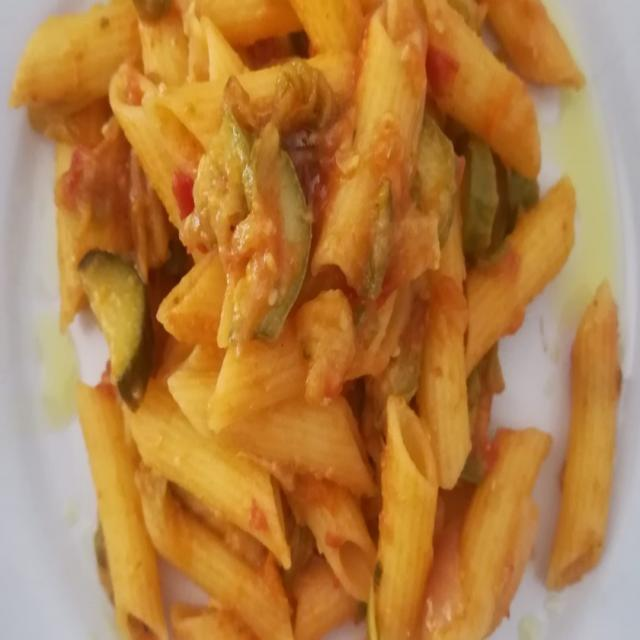Pasta al ragu: (41, 21, 613, 619)
